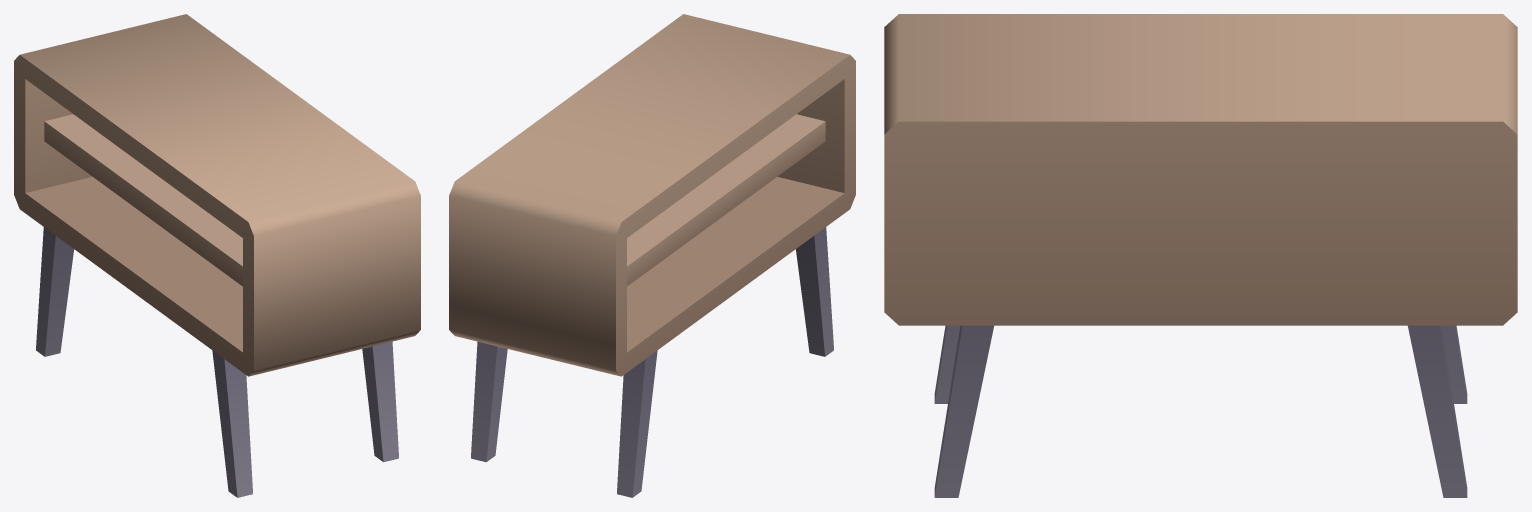
File: sidetable-open.glb
3 renders of one model, left to right at view 1: azimuth 30°, elevation 25°; view 2: azimuth 150°, elevation 25°; view 3: azimuth 270°, elevation 25°, orthographic. The views are drawn at different scales.
Parts seen in each view (by area): view 1: sidetable-open; view 2: sidetable-open; view 3: sidetable-open.
Boxes of the visible parts, x1=… form: sidetable-open: x1=14, y1=14, x2=420, y2=497; sidetable-open: x1=449, y1=14, x2=855, y2=497; sidetable-open: x1=884, y1=14, x2=1517, y2=497.
Bounding box in the file's own units: 0.4 × 0.656 × 0.996.
